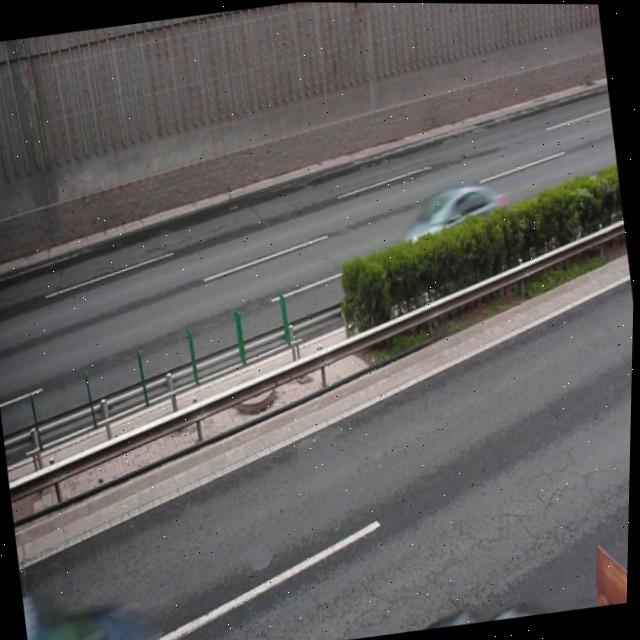car: (400, 179, 514, 275)
truck: (26, 588, 161, 640)
